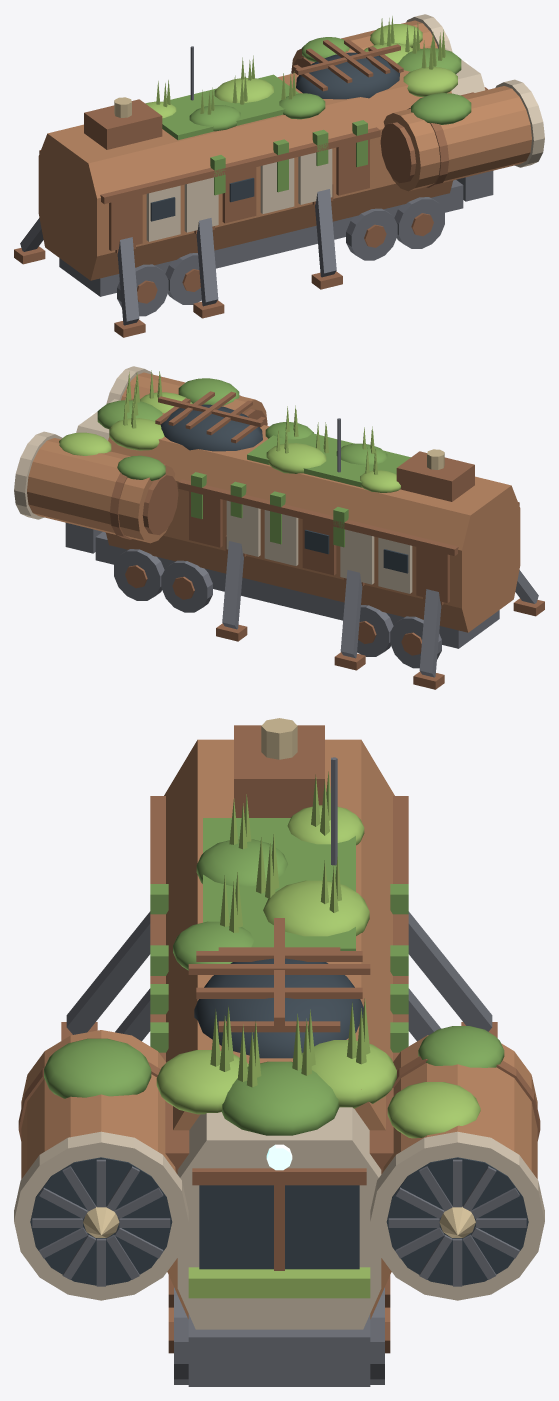
The model's file is Locomotive_Jet.fbx.
3 views of the same model, one above another, from view 1: azimuth 30°, elevation 25°; view 2: azimuth 150°, elevation 25°; view 3: azimuth 270°, elevation 25° (orthographic). The views are drawn at different scales.
Parts seen in each view (by area): view 1: Locomotive_Jet; view 2: Locomotive_Jet; view 3: Locomotive_Jet.
Boxes of the visible parts, bbox=[...] form: Locomotive_Jet: bbox=[14, 14, 544, 337]; Locomotive_Jet: bbox=[14, 366, 544, 689]; Locomotive_Jet: bbox=[14, 718, 544, 1386].
Bounding box in the file's own units: 5.38 × 2.65 × 2.92.
